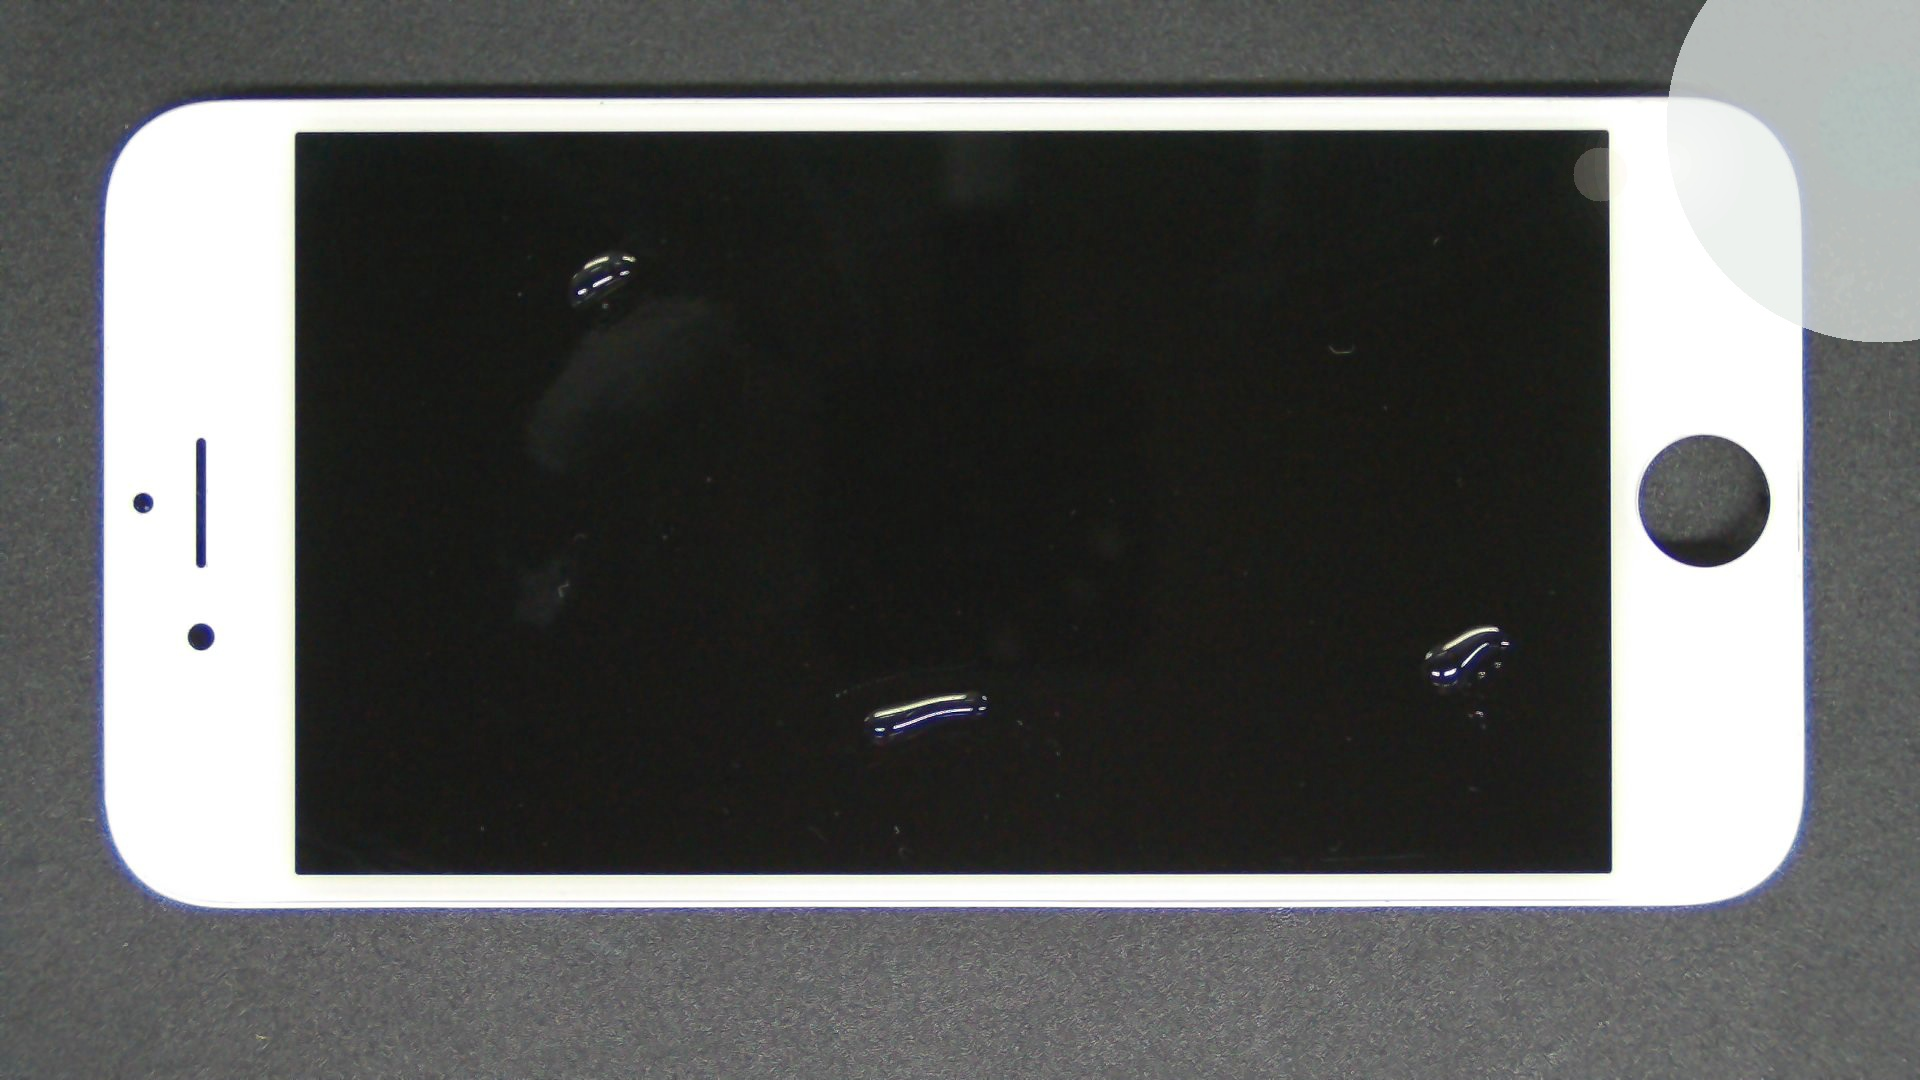oil: (738, 311, 1920, 936), (493, 344, 1478, 1034), (306, 124, 916, 376)
